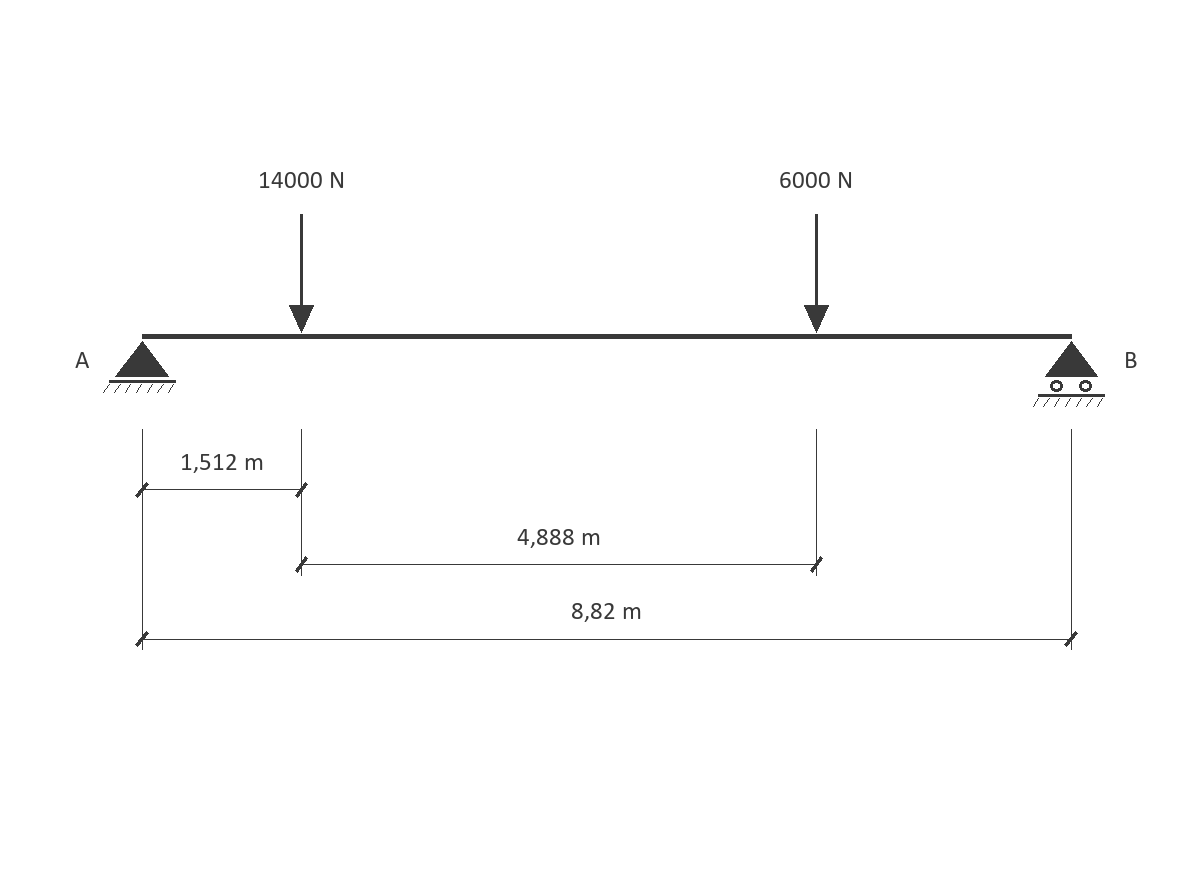pin_support: (103, 341, 176, 393)
point_load: (289, 214, 314, 333), (804, 214, 829, 333)
roller_support: (1033, 341, 1105, 407)
